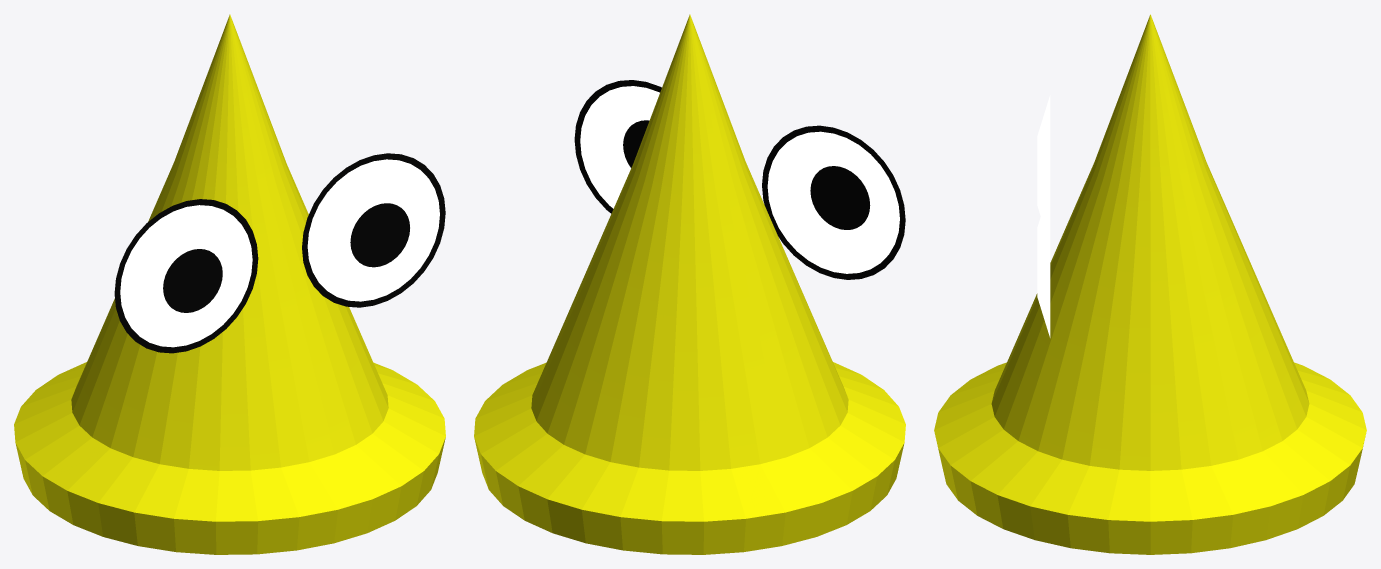
The picture shows the model from 3 angles, left to right: view 1: azimuth 30°, elevation 25°; view 2: azimuth 150°, elevation 25°; view 3: azimuth 270°, elevation 25°; orthographic projection.
Visible parts, largest first — view 1: Cone; view 2: Cone; view 3: Cone.
Part boxes in pixels (x1=…): Cone: x1=14, y1=14, x2=445, y2=554; Cone: x1=474, y1=14, x2=905, y2=554; Cone: x1=934, y1=14, x2=1366, y2=554.
Size of the model in its own units: 2.08 by 2.4 by 2.08.
